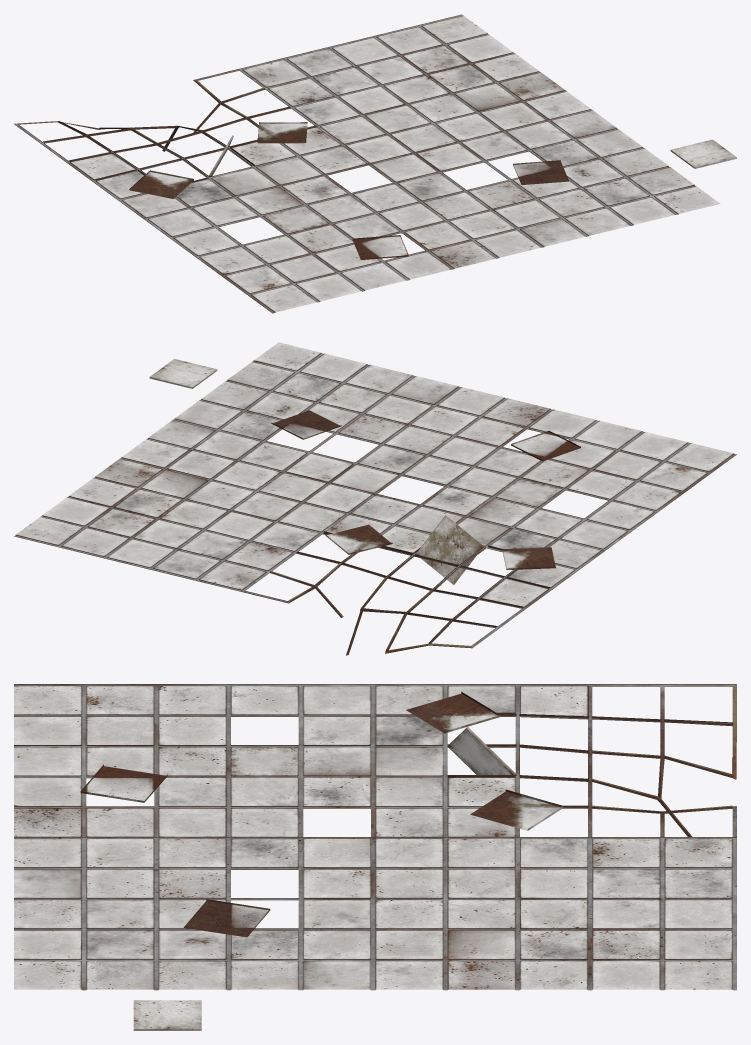
File: abandoned_office_ceiling.glb
3 views of the same model, one above another, from view 1: azimuth 30°, elevation 25°; view 2: azimuth 150°, elevation 25°; view 3: azimuth 270°, elevation 25° (orthographic). The views are drawn at different scales.
Size of the model in its own units: 49.72 by 7.54 by 43.93.
Materials: 1 (1 with a texture image).
